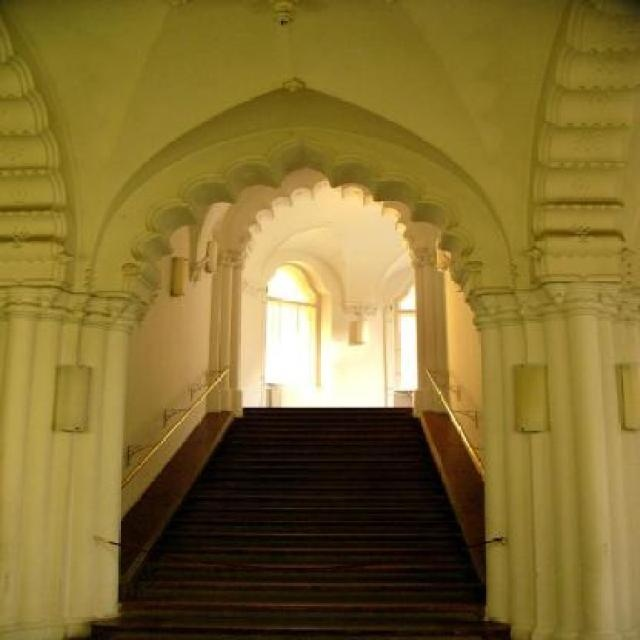stair: (68, 404, 517, 640)
